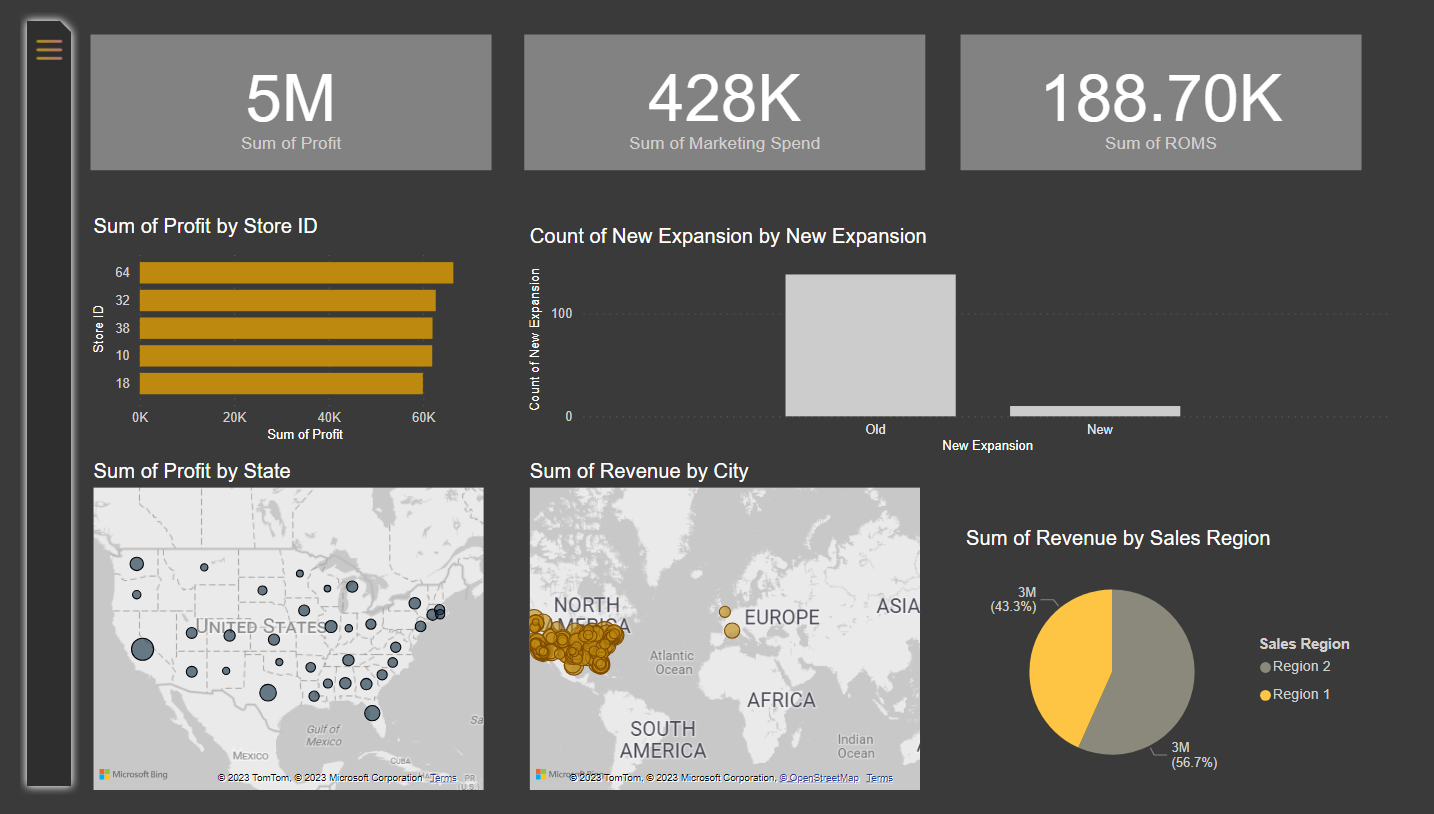

The page's visual inventory and layout, read from the dashboard file:
{"tool":"powerbi","page":{"name":"OVERVIEW","canvas":[1280,720],"ordinal":0},"visuals":[{"type":"shape","title":"nav","box":[0,0,57.1,720],"z":0,"group":"g1"},{"type":"group","id":"g1","title":"Menu bar","box":[0,0,57.1,720],"z":1000},{"type":"actionButton","title":"Menu Button","box":[9.5,10.7,39.3,48.8],"z":1000,"group":"g1"},{"type":"card","fields":{"Values":["Sum(startup-expansion-modified.Profit)"]},"box":[66.1,20.4,369,125],"z":5000},{"type":"card","fields":{"Values":["Sum(startup-expansion-modified.Marketing Spend)"]},"box":[465.2,20.4,369,125],"z":6000},{"type":"card","fields":{"Values":["Sum(startup-expansion-modified.ROMS)"]},"box":[866.7,20.4,369,125],"z":7000},{"type":"clusteredBarChart","fields":{"Category":["startup-expansion-modified.Store ID"],"Y":["Sum(startup-expansion-modified.Profit)"]},"box":[64.9,186.3,367.8,214],"z":8000},{"type":"columnChart","fields":{"Category":["startup-expansion-modified.New Expansion"],"Y":["CountNonNull(startup-expansion-modified.New Expansion)"]},"box":[465.2,195.9,803,215.2],"z":9000},{"type":"map","fields":{"Category":["startup-expansion-modified.State"],"Size":["Sum(startup-expansion-modified.Profit)"]},"box":[64.9,411.1,369,308.9],"z":10000},{"type":"map","fields":{"Category":["startup-expansion-modified.City"],"Size":["Sum(startup-expansion-modified.Revenue)"]},"box":[465.2,411.1,369,308.9],"z":11000},{"type":"pieChart","fields":{"Category":["startup-expansion-modified.Sales Region"],"Y":["Sum(startup-expansion-modified.Revenue)"]},"box":[866.7,473.6,381.1,246.4],"z":12000}]}

Visuals, with their boxes in screenshot pixels (x1, y1, x2, y2), scaled from the page's 1280x720 canvas onto the 1434x814 screenshot:
"nav" shape: x1=0 y1=0 x2=64 y2=813
"Menu bar" group: x1=0 y1=0 x2=64 y2=813
"Menu Button" actionButton: x1=11 y1=12 x2=55 y2=67
card - Sum(startup-expansion-modified.Profit): x1=74 y1=23 x2=487 y2=164
card - Sum(startup-expansion-modified.Marketing Spend): x1=521 y1=23 x2=935 y2=164
card - Sum(startup-expansion-modified.ROMS): x1=971 y1=23 x2=1384 y2=164
clusteredBarChart - startup-expansion-modified.Store ID x Sum(startup-expansion-modified.Profit): x1=73 y1=211 x2=485 y2=453
columnChart - startup-expansion-modified.New Expansion x CountNonNull(startup-expansion-modified.New Expansion): x1=521 y1=221 x2=1421 y2=465
map - startup-expansion-modified.State x Sum(startup-expansion-modified.Profit): x1=73 y1=465 x2=486 y2=813
map - startup-expansion-modified.City x Sum(startup-expansion-modified.Revenue): x1=521 y1=465 x2=935 y2=813
pieChart - startup-expansion-modified.Sales Region x Sum(startup-expansion-modified.Revenue): x1=971 y1=535 x2=1398 y2=813
